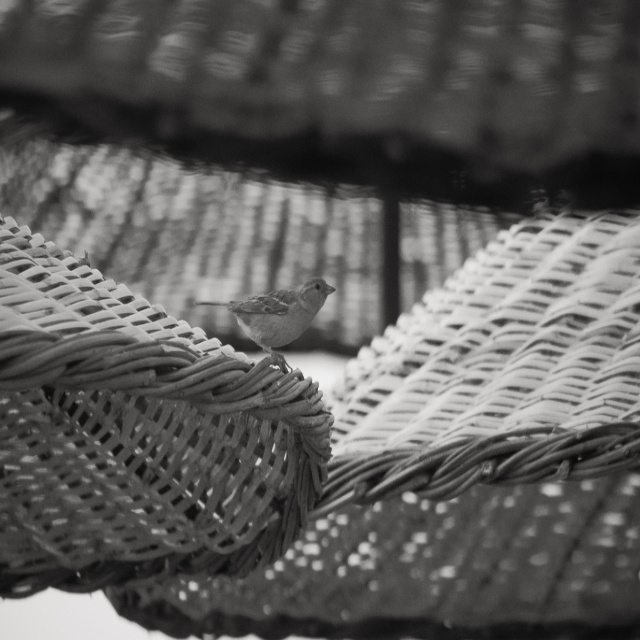Sparrow: (194, 282, 337, 368)
